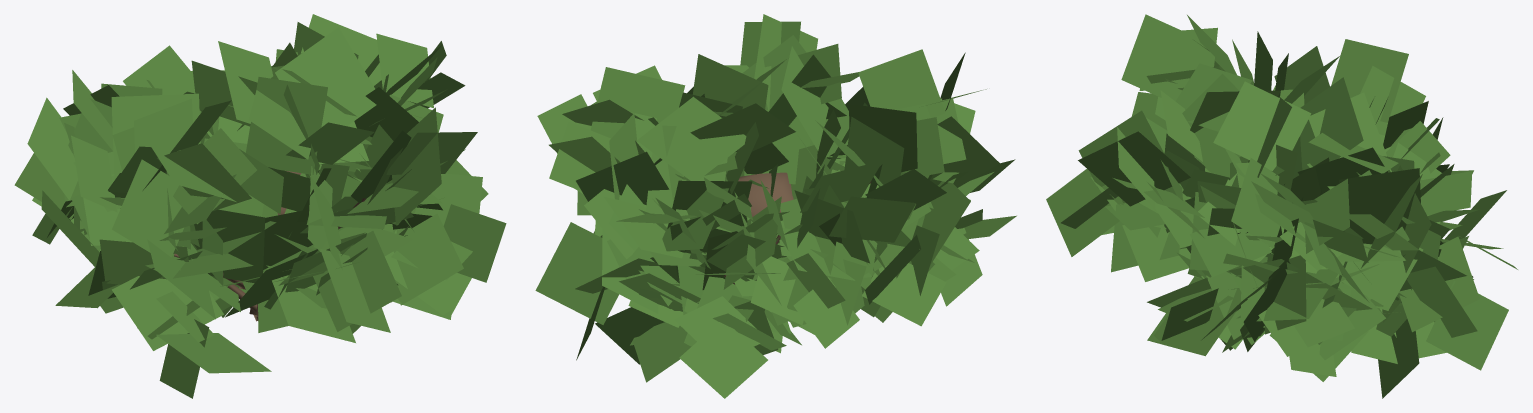
File: foliage-shrub.glb
The picture shows the model from 3 angles, left to right: view 1: azimuth 30°, elevation 25°; view 2: azimuth 150°, elevation 25°; view 3: azimuth 270°, elevation 25°; orthographic projection. The views are drawn at different scales.
Visible parts, largest first — view 1: leaves, bark; view 2: leaves, bark; view 3: leaves.
Part boxes in pixels (box(x1,y1,x2,y2)): leaves: box(14, 14, 506, 398); bark: box(174, 170, 366, 321); leaves: box(535, 14, 1016, 398); bark: box(724, 172, 871, 284); leaves: box(1046, 14, 1517, 398).
Bounding box in the file's own units: 3.02 × 2.2 × 3.22.
